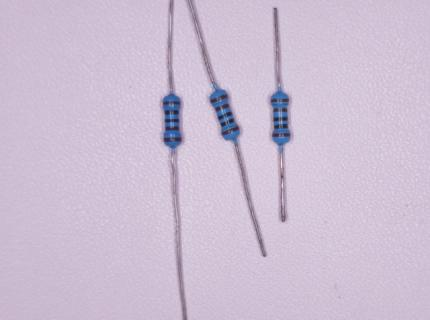Black band: (218, 112, 232, 121), (221, 118, 234, 127), (273, 117, 288, 122), (165, 110, 179, 115), (274, 124, 288, 129), (165, 119, 179, 123)
Brown band: (221, 126, 240, 136), (210, 94, 227, 103), (215, 103, 229, 112), (164, 137, 182, 142), (163, 101, 181, 105), (272, 133, 290, 137), (165, 126, 179, 131), (273, 108, 288, 112), (271, 99, 288, 102)
